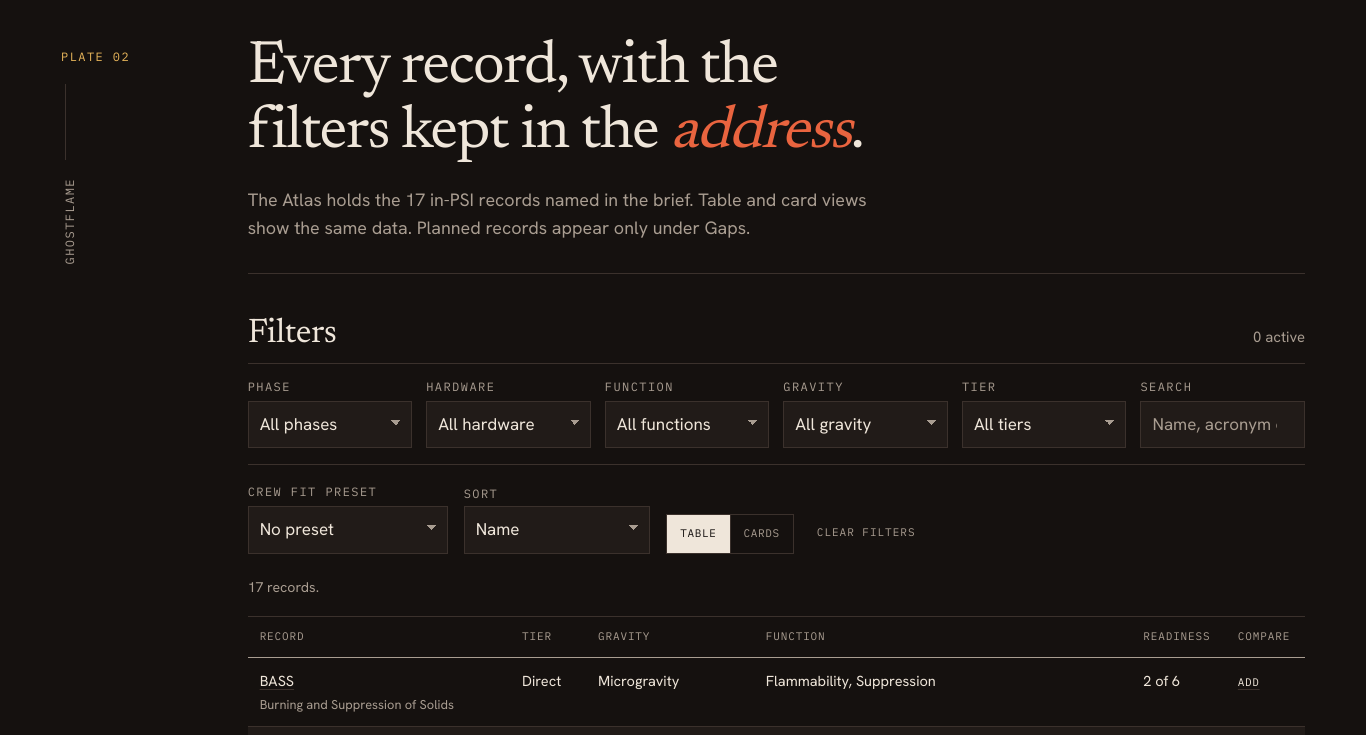
Test: Atlas component › shows an empty state with a working clear button
In the search field labelled "Search": [1223, 425] box [1140,401,1305,448], type "zzzz-no-match"
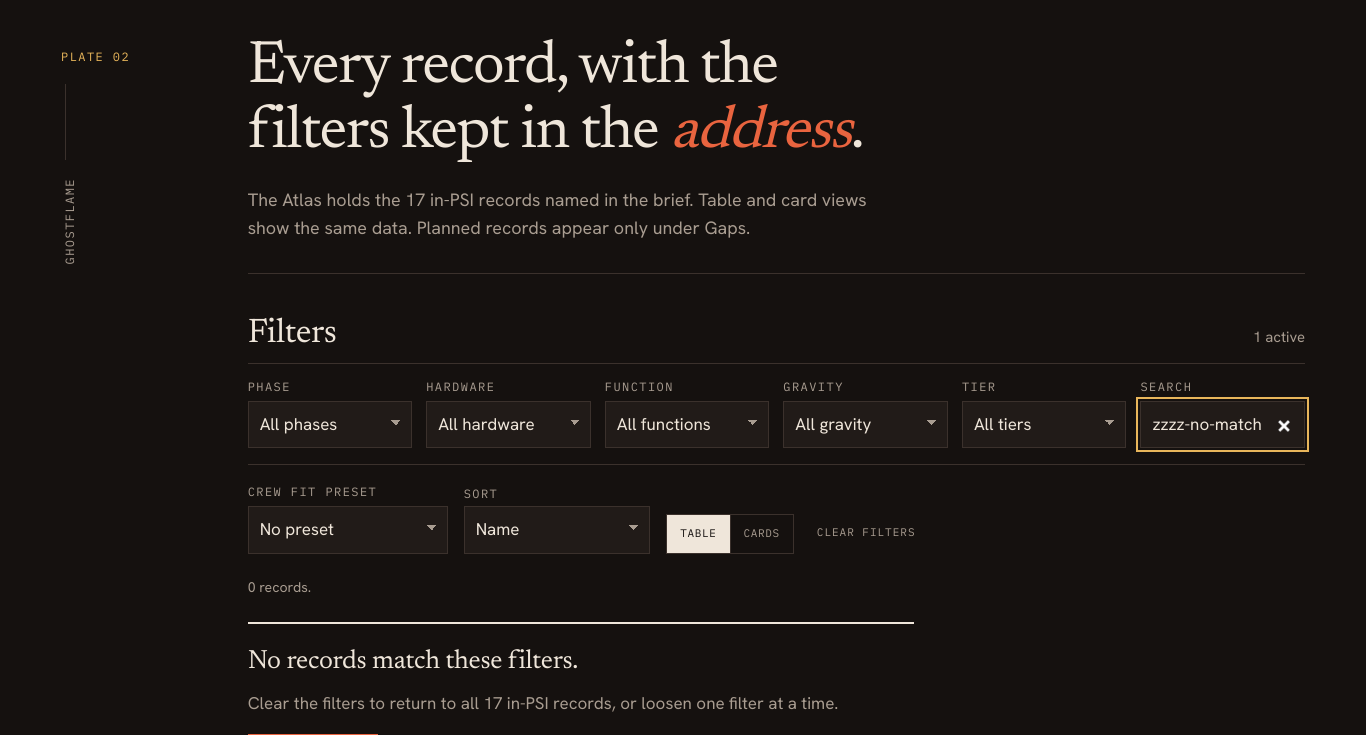
Expected: the heading "No records match these filters." is shown, [248,649,578,675]
Click the button "Clear filters" below "Function": [866, 533] box [810,512,922,554]
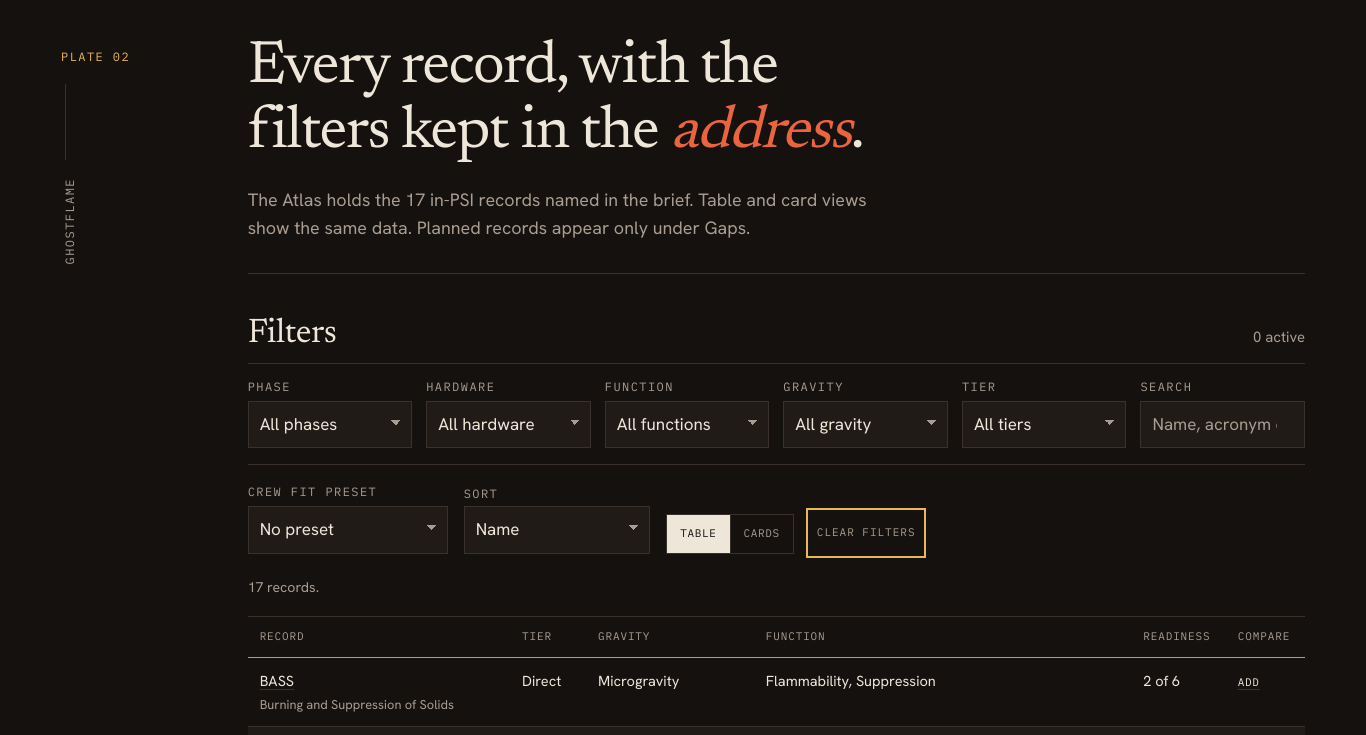
Expected: the heading "No records match these filters." is gone
